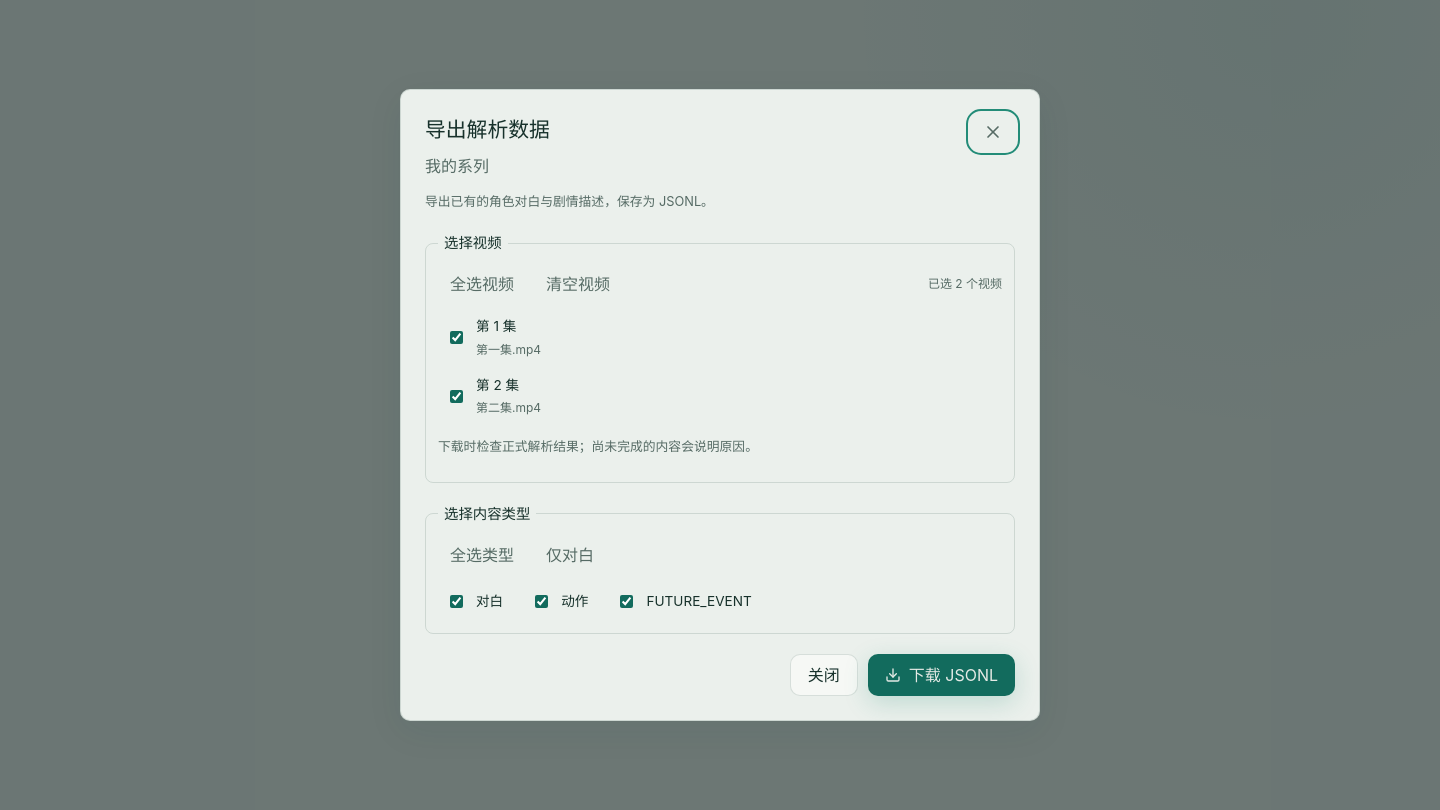
Test case: ParseExportDialog › reports an empty result without downloading a file
The width and height of the screenshot is (1440, 810).
Check: the checkbox labelled "对白" is shown, box [450,595,463,608]
Step 1. Click the button "下载 JSONL" → (941, 675), box [868,654,1015,696]
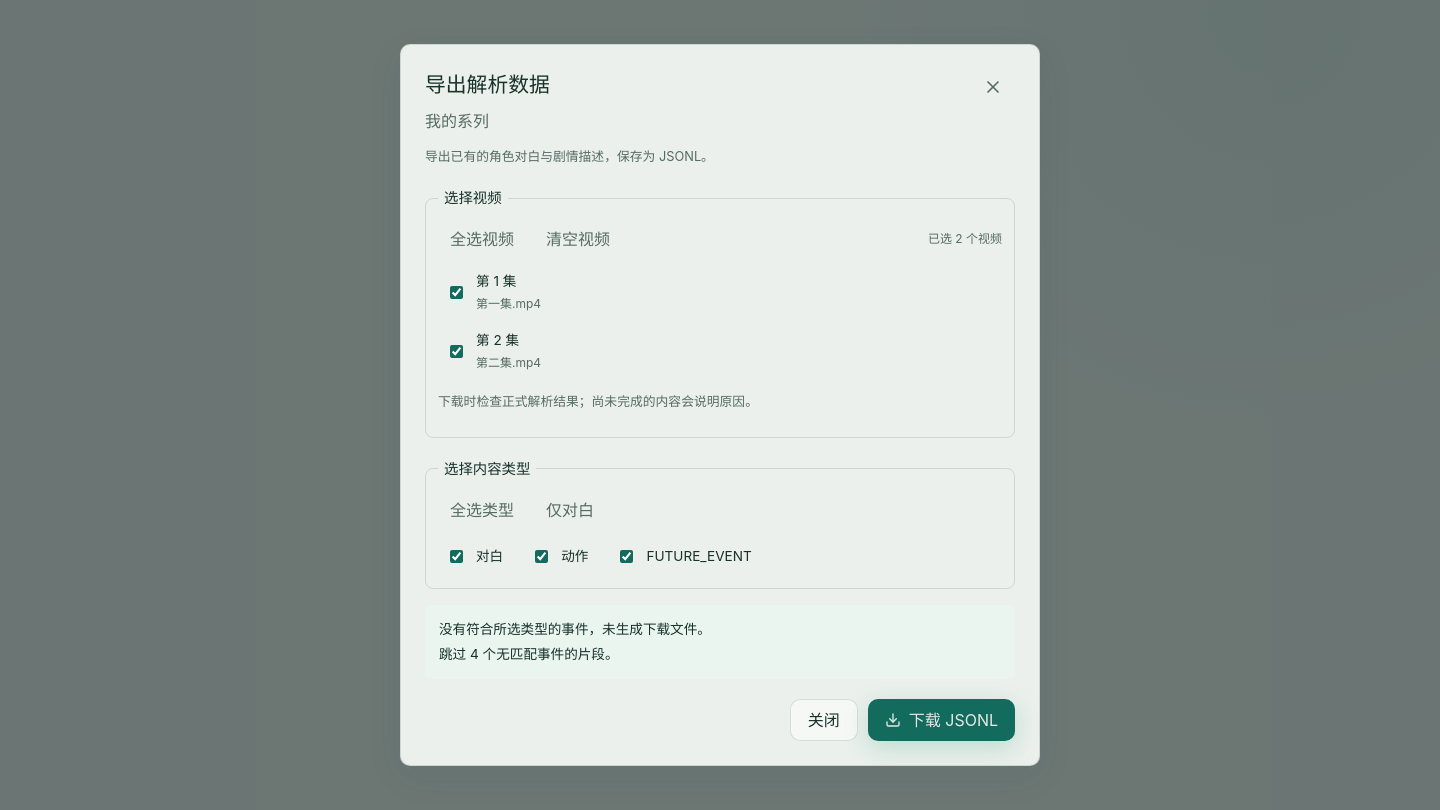
Check: the message shows "没有符合所选类型的事件", box [439,621,711,637]
Check: the message shows "跳过 4 个", box [439,646,619,662]
